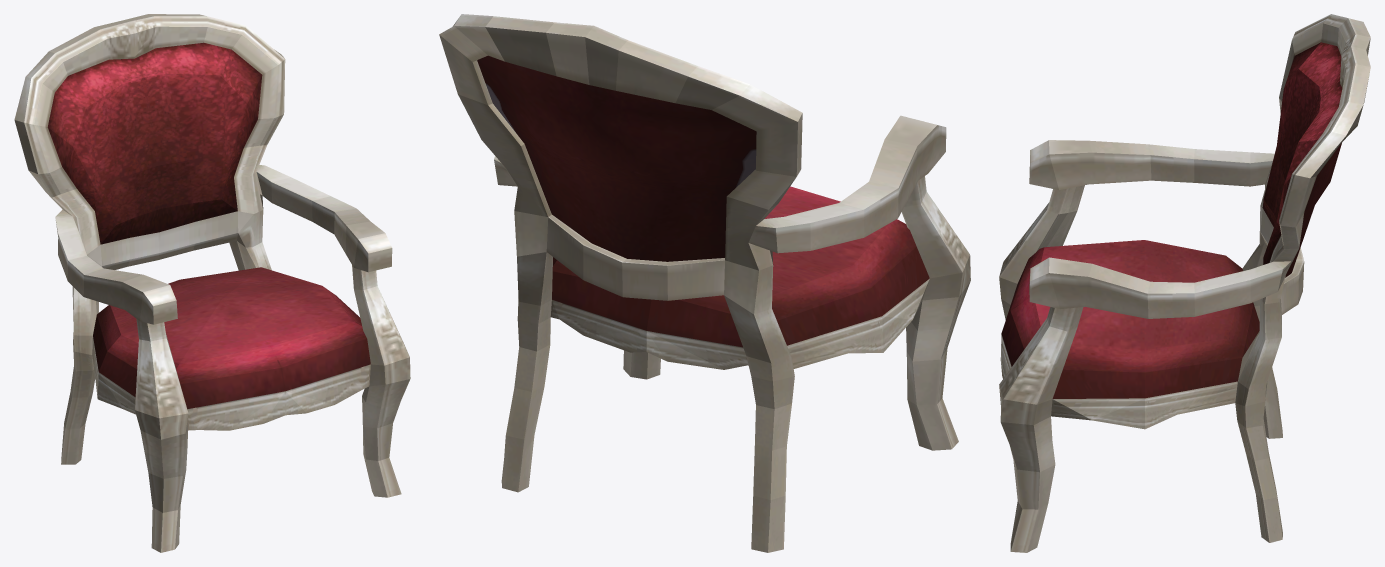
Rendered from furni_0201111_02.FBX.
3 renders of one model, left to right at view 1: azimuth 30°, elevation 25°; view 2: azimuth 150°, elevation 25°; view 3: azimuth 270°, elevation 25°, orthographic. The views are drawn at different scales.
Visible parts, largest first — view 1: furni_0201111_02; view 2: furni_0201111_02; view 3: furni_0201111_02.
Boxes of the visible parts, box(x1,y1,x2,y2) form: furni_0201111_02: box(14, 14, 410, 552); furni_0201111_02: box(439, 14, 970, 552); furni_0201111_02: box(999, 14, 1370, 552).
Bounding box in the file's own units: 74.31 × 102 × 78.08.
1 material, 1 textured.
